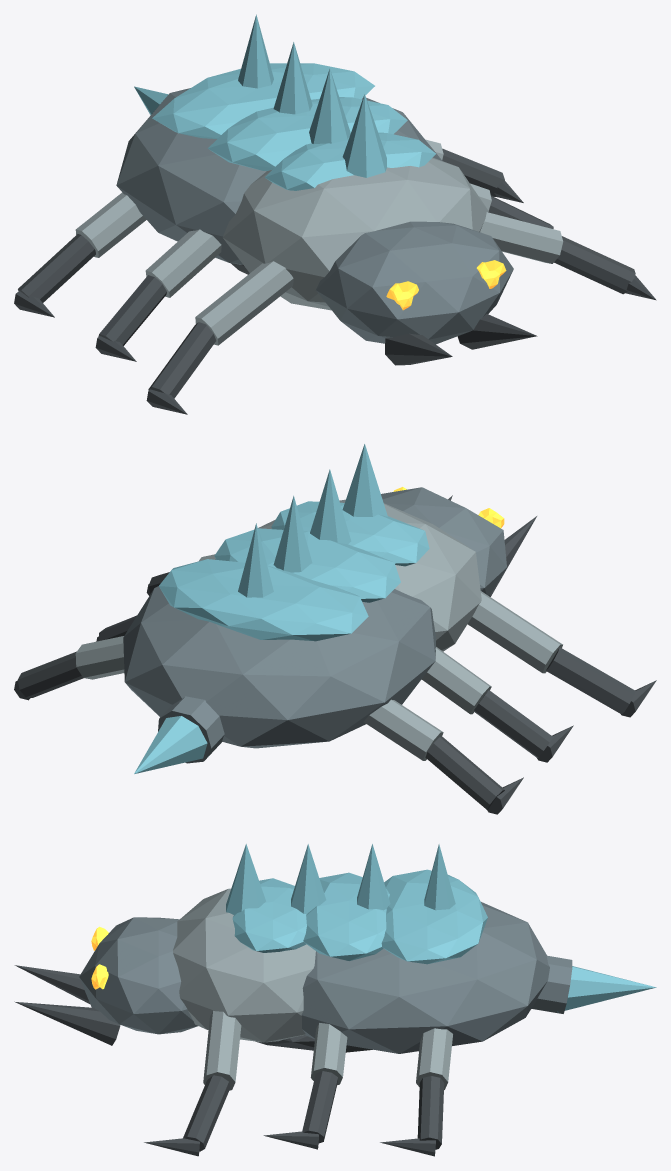
Rendered from rimecrawler_v1.glb.
3 renders of one model, top to bottom at view 1: azimuth 30°, elevation 25°; view 2: azimuth 150°, elevation 25°; view 3: azimuth 270°, elevation 25°, orthographic. The views are drawn at different scales.
Visible parts, largest first — view 1: Thorax, HeadCarapace, ArmoredAbdomen, IceBackPlate_0, IceBackPlate_1, IceBackPlate_2, UpperLeg_L0, UpperLeg_R0, UpperLeg_L1, UpperLeg_L2, LowerLeg_L2, DorsalIceSpine_3 (+11 smaller); view 2: ArmoredAbdomen, IceBackPlate_0, Thorax, IceBackPlate_1, HeadCarapace, IceBackPlate_2, UpperLeg_L0, LowerLeg_L0, TailSpike, UpperLeg_L2, LowerLeg_L2, UpperLeg_L1 (+9 smaller); view 3: ArmoredAbdomen, Thorax, HeadCarapace, IceBackPlate_0, IceBackPlate_1, IceBackPlate_2, UpperLeg_R0, TailSpike, Mandible_R, LowerLeg_R0, UpperLeg_R2, LowerLeg_R2 (+12 smaller).
Boxes of the visible parts, x1,y1,x2,y2 form: Thorax: (222, 157, 488, 310); HeadCarapace: (316, 221, 513, 344); ArmoredAbdomen: (116, 88, 442, 264); IceBackPlate_0: (152, 63, 374, 138); IceBackPlate_1: (208, 97, 407, 170); IceBackPlate_2: (265, 132, 435, 190); UpperLeg_L0: (195, 261, 293, 345); UpperLeg_R0: (480, 212, 563, 263); UpperLeg_L1: (145, 229, 221, 297); UpperLeg_L2: (75, 192, 146, 257); LowerLeg_L2: (18, 234, 95, 302); DorsalIceSpine_3: (342, 94, 387, 177); ArmoredAbdomen: (123, 559, 435, 748); IceBackPlate_0: (159, 559, 368, 641); Thorax: (258, 499, 481, 651); IceBackPlate_1: (214, 528, 400, 602); HeadCarapace: (381, 487, 506, 595); IceBackPlate_2: (271, 501, 429, 566); UpperLeg_L0: (467, 591, 562, 673); LowerLeg_L0: (546, 647, 635, 714); TailSpike: (134, 716, 208, 773); UpperLeg_L2: (363, 699, 443, 760); LowerLeg_L2: (425, 736, 504, 809); UpperLeg_L1: (421, 647, 491, 714); ArmoredAbdomen: (301, 902, 549, 1053); Thorax: (173, 888, 315, 1042); HeadCarapace: (79, 917, 197, 1034); IceBackPlate_0: (381, 869, 487, 964); IceBackPlate_1: (303, 872, 389, 960); IceBackPlate_2: (232, 878, 306, 952); UpperLeg_R0: (203, 1010, 241, 1090); TailSpike: (557, 966, 656, 1012); Mandible_R: (14, 1001, 120, 1045); LowerLeg_R0: (183, 1075, 230, 1151); UpperLeg_R2: (416, 1028, 452, 1089); LowerLeg_R2: (417, 1076, 444, 1149).
Size of the model in its own units: 4.3 by 1.98 by 5.5.
